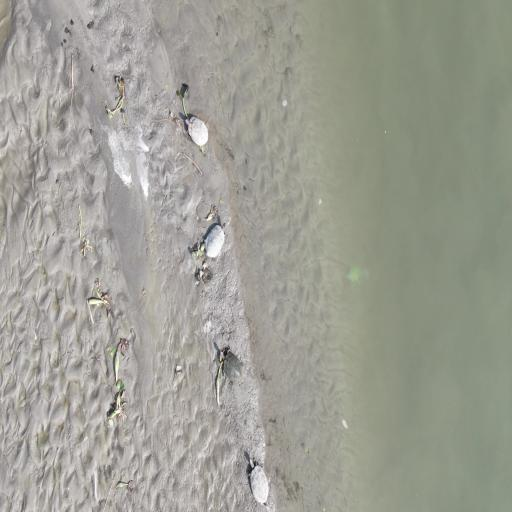turtle: (249, 457, 270, 502), (184, 116, 210, 147), (220, 349, 243, 384), (205, 222, 227, 257)
